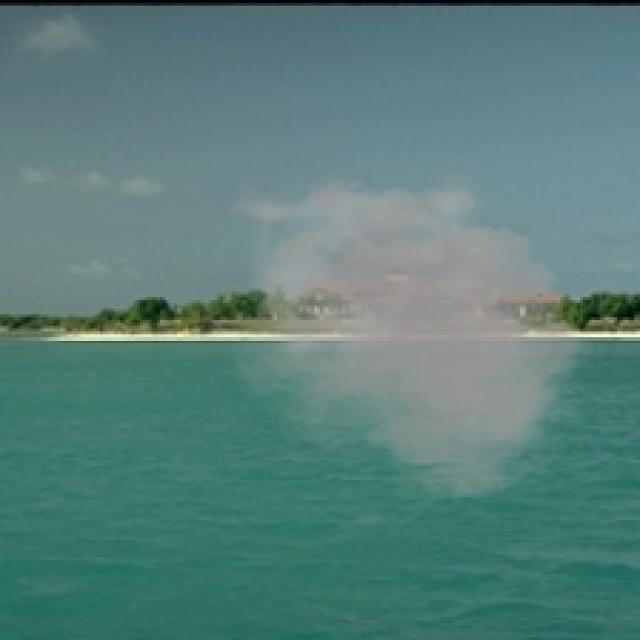Smoke: (214, 163, 606, 508)
